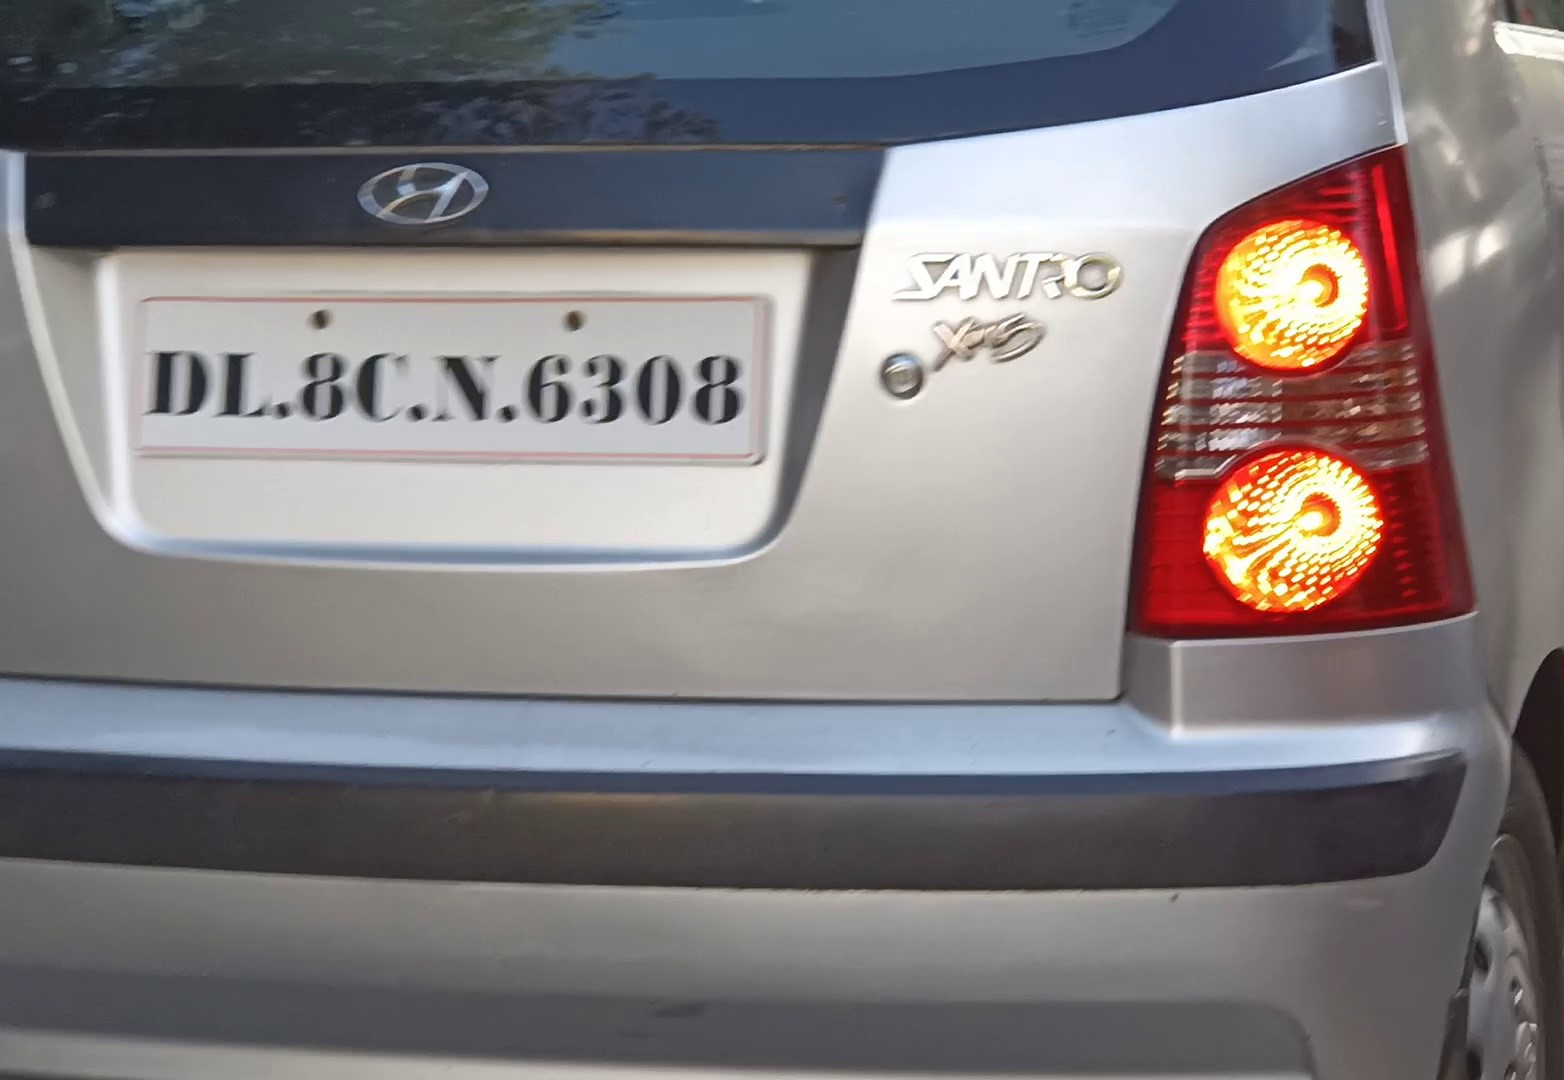DL8CN6308: (135, 297, 761, 452)
